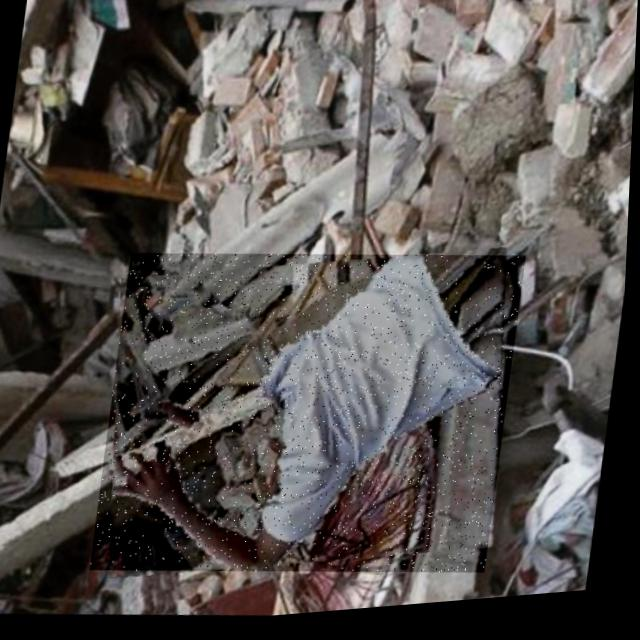Person in Rubble: (93, 229, 529, 605)
